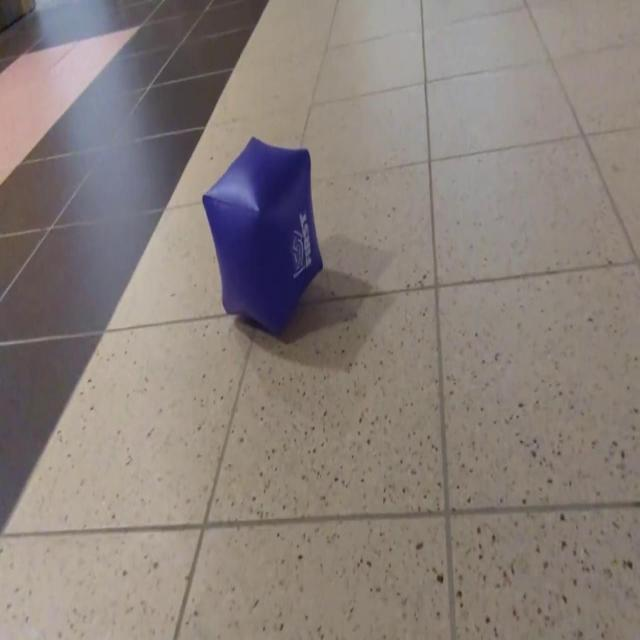frc_cube: (201, 139, 323, 337)
